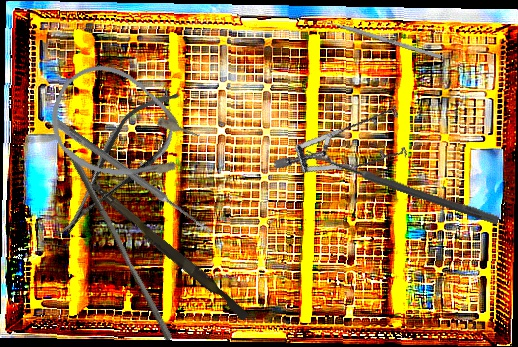Cannula: (35, 50, 212, 206)
Micro Scissor: (38, 75, 201, 252)
Pusher: (76, 174, 253, 321), (61, 153, 180, 342), (313, 15, 442, 60)
Speculum: (273, 75, 420, 206)
Surgical Spoon: (52, 118, 216, 237), (303, 149, 501, 225)
